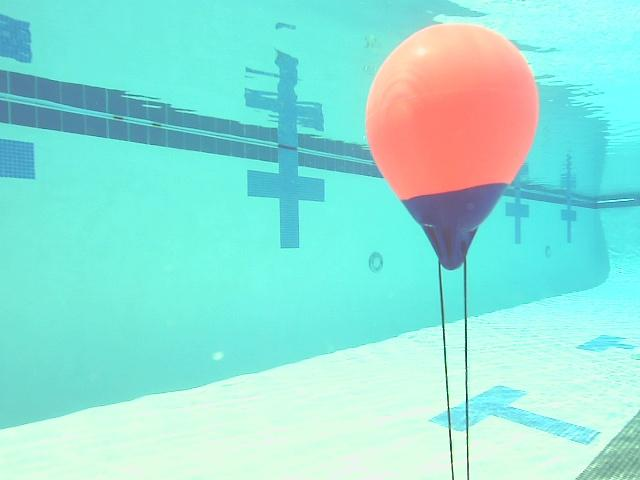buoy: (366, 23, 538, 268)
